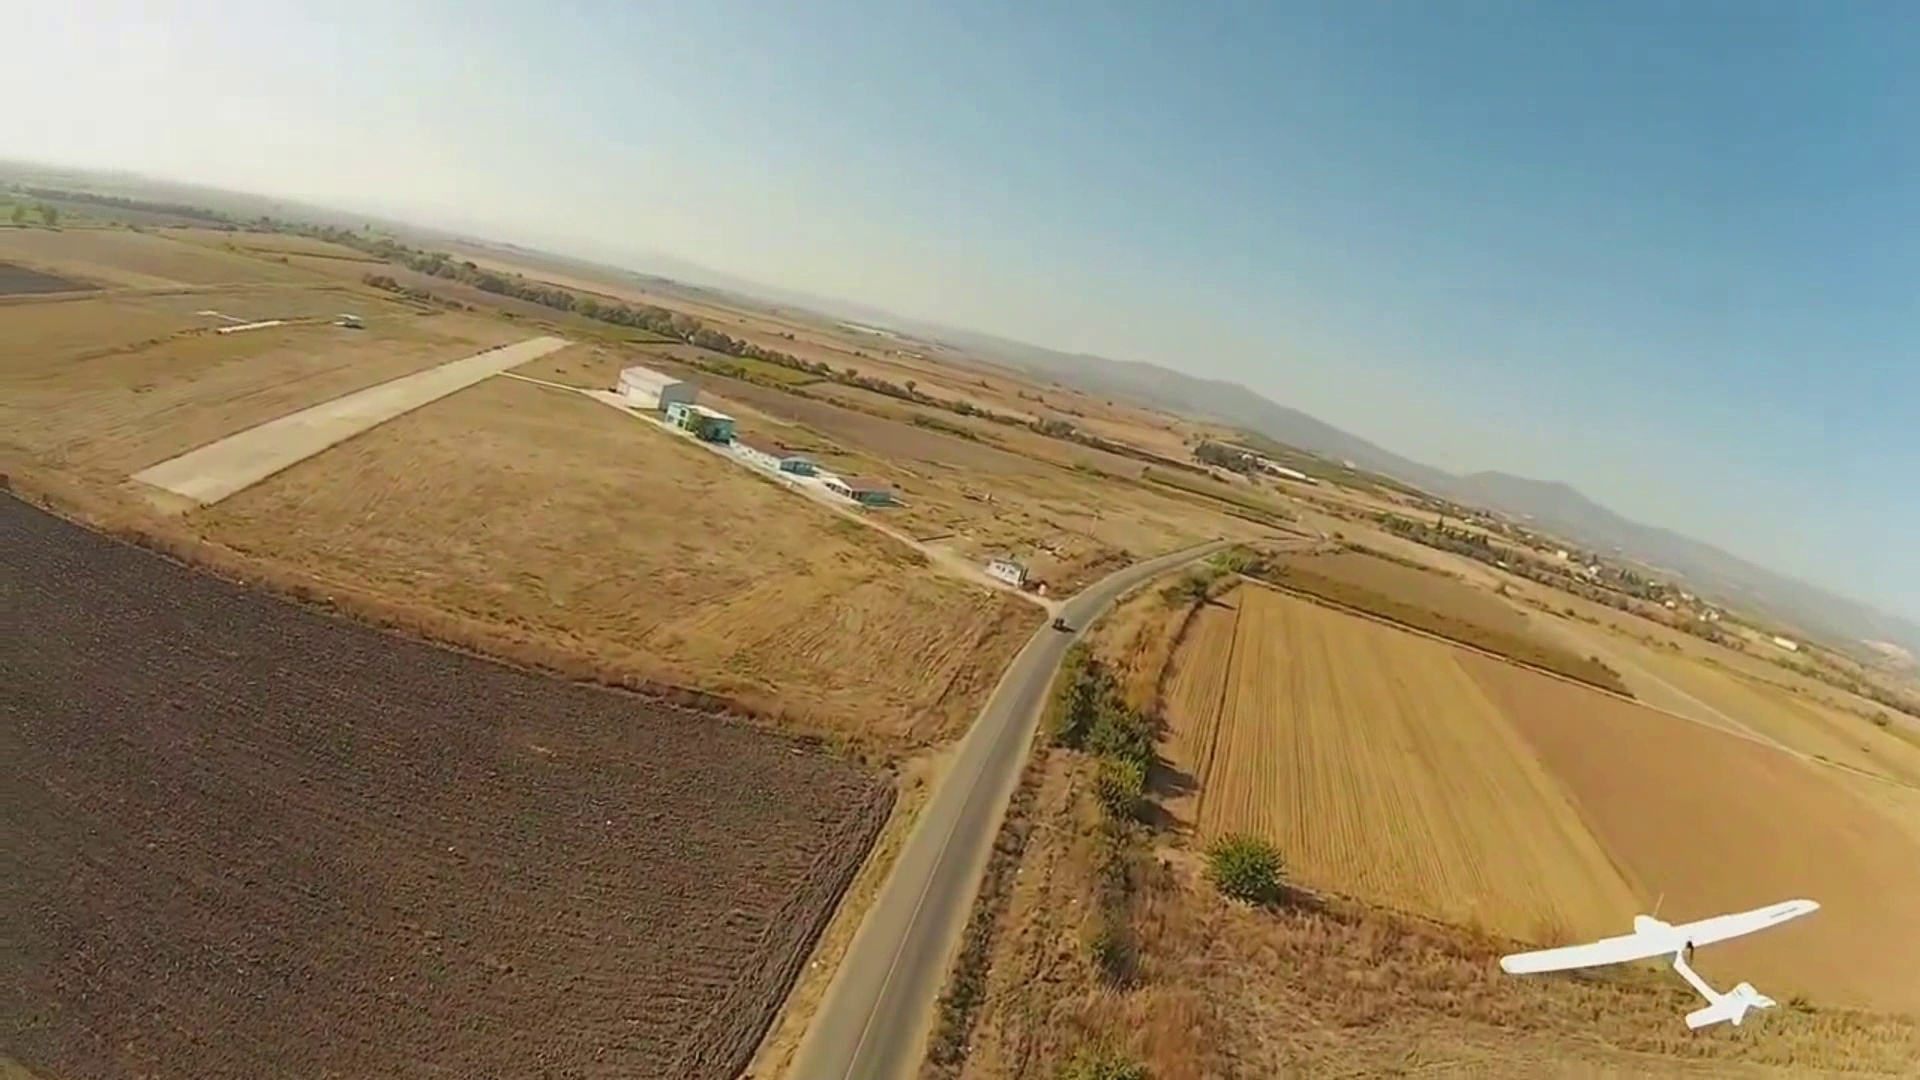airplane: (1502, 897, 1820, 1036)
